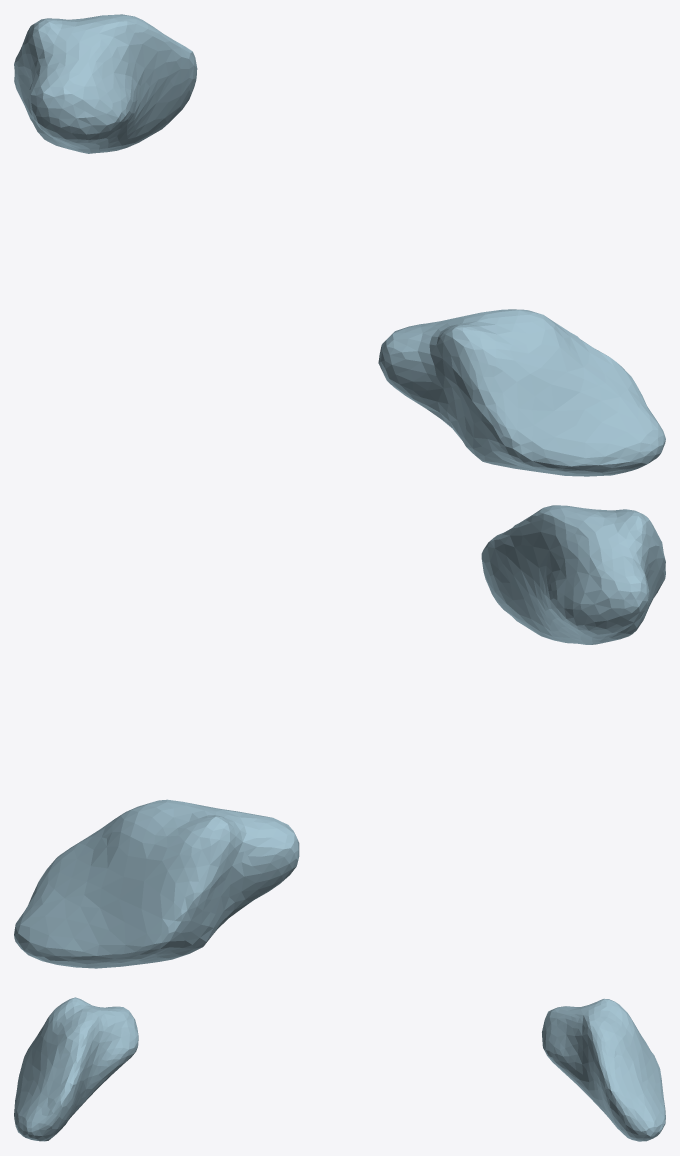
3 renders of one model, top to bottom at view 1: azimuth 30°, elevation 25°; view 2: azimuth 150°, elevation 25°; view 3: azimuth 270°, elevation 25°, orthographic. The views are drawn at different scales.
Parts seen in each view (by area): view 1: 536.obj; view 2: 536.obj; view 3: 536.obj.
Part boxes in pixels (<box>): 536.obj: <box>14,14,665,476</box>; 536.obj: <box>14,505,665,968</box>; 536.obj: <box>14,997,665,1141</box>.
Bounding box in the file's own units: 1565 × 1114 × 6427.
